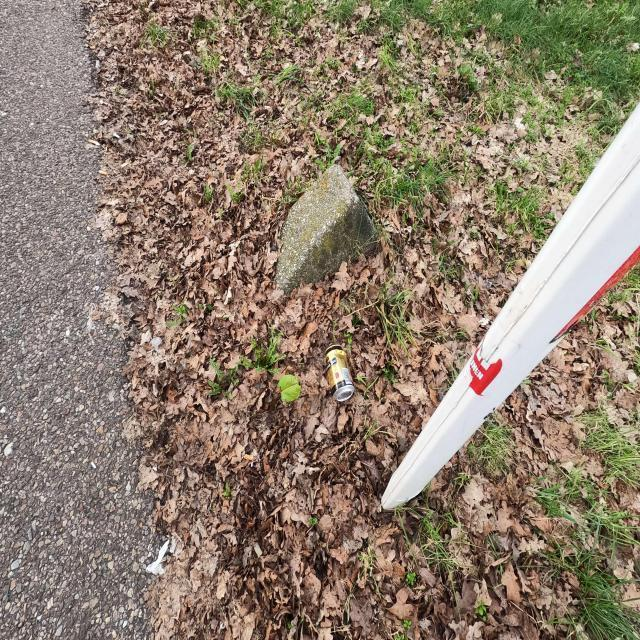Can-Metal: (324, 344, 355, 402)
Paper: (146, 538, 170, 577)
